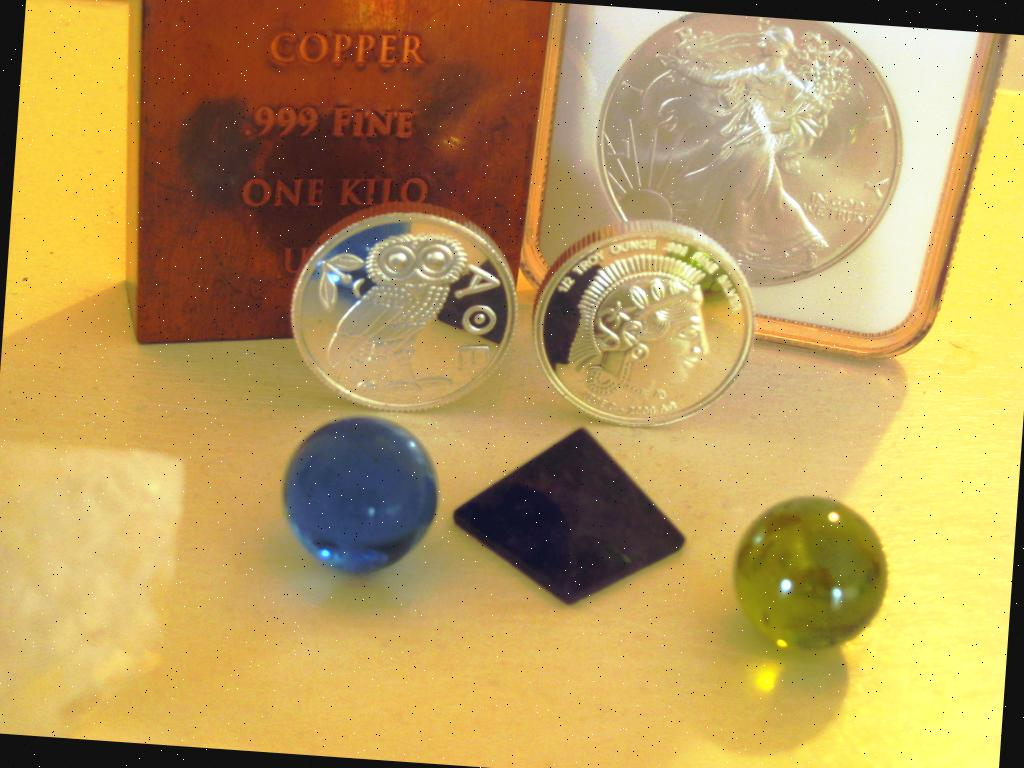Owl: (322, 226, 466, 394)
